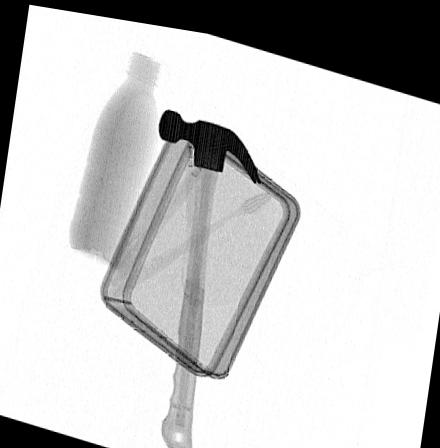Hammer: (157, 103, 262, 448)
